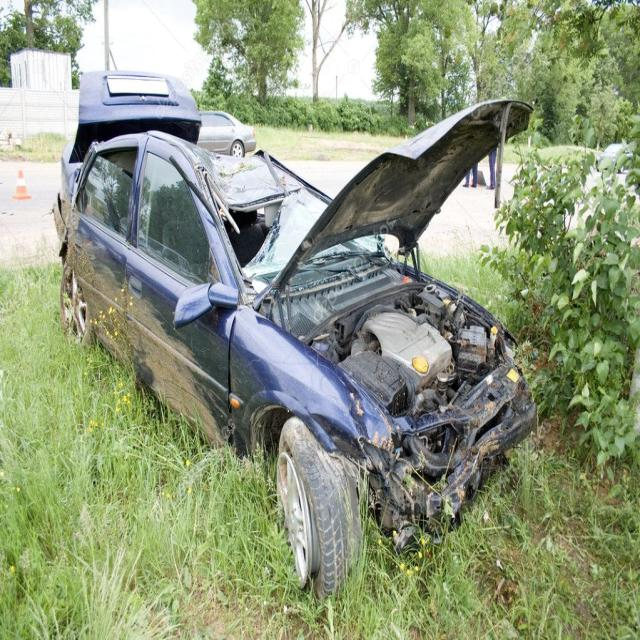crush: (53, 100, 538, 561)
